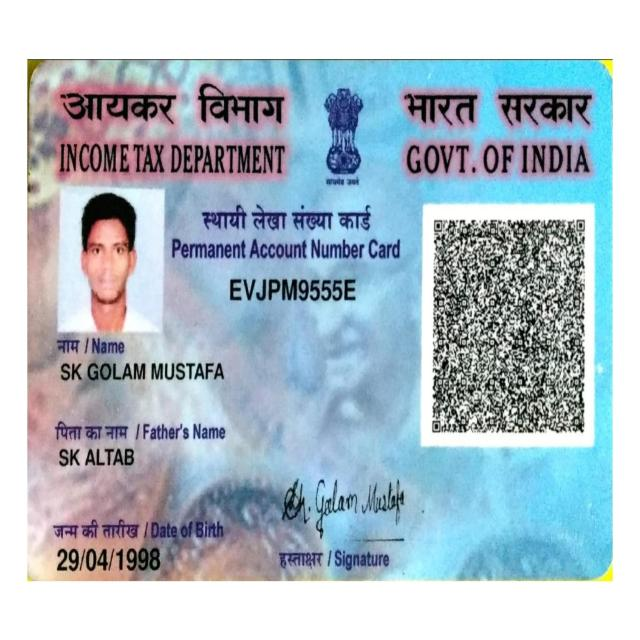pan_card: (29, 70, 609, 577)
